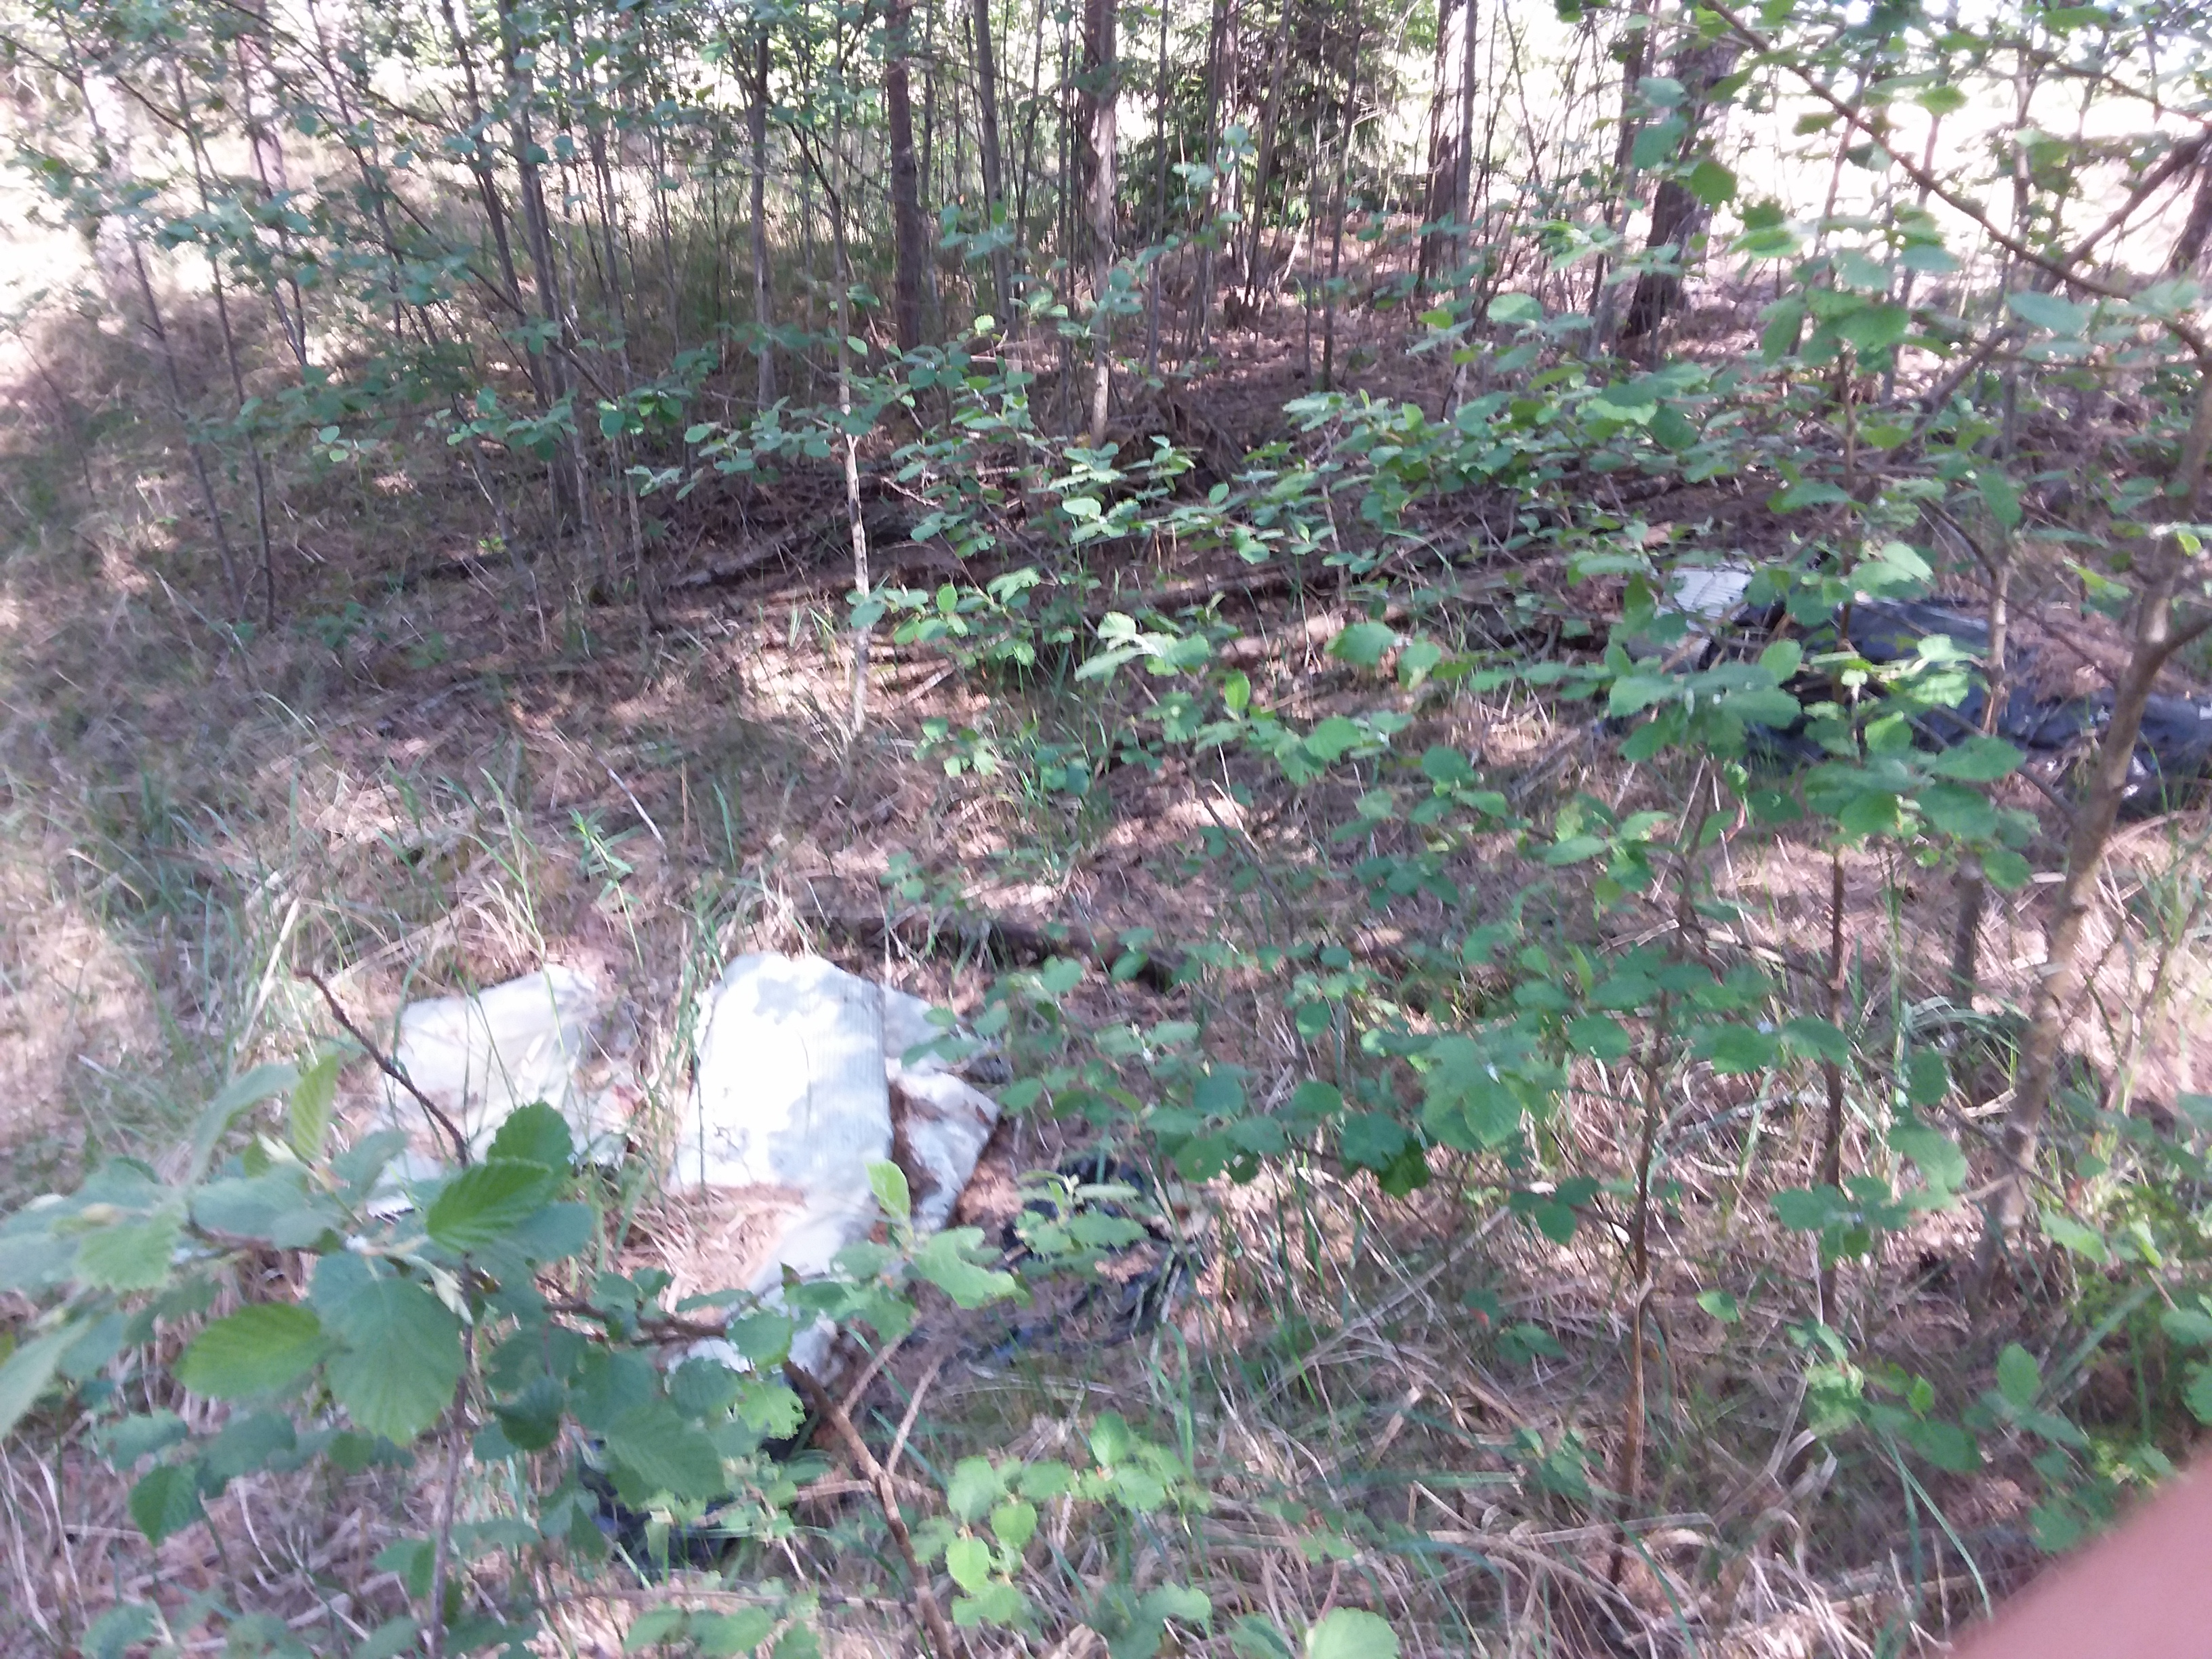trash: (202, 810, 1082, 1514), (1604, 497, 2212, 863)
